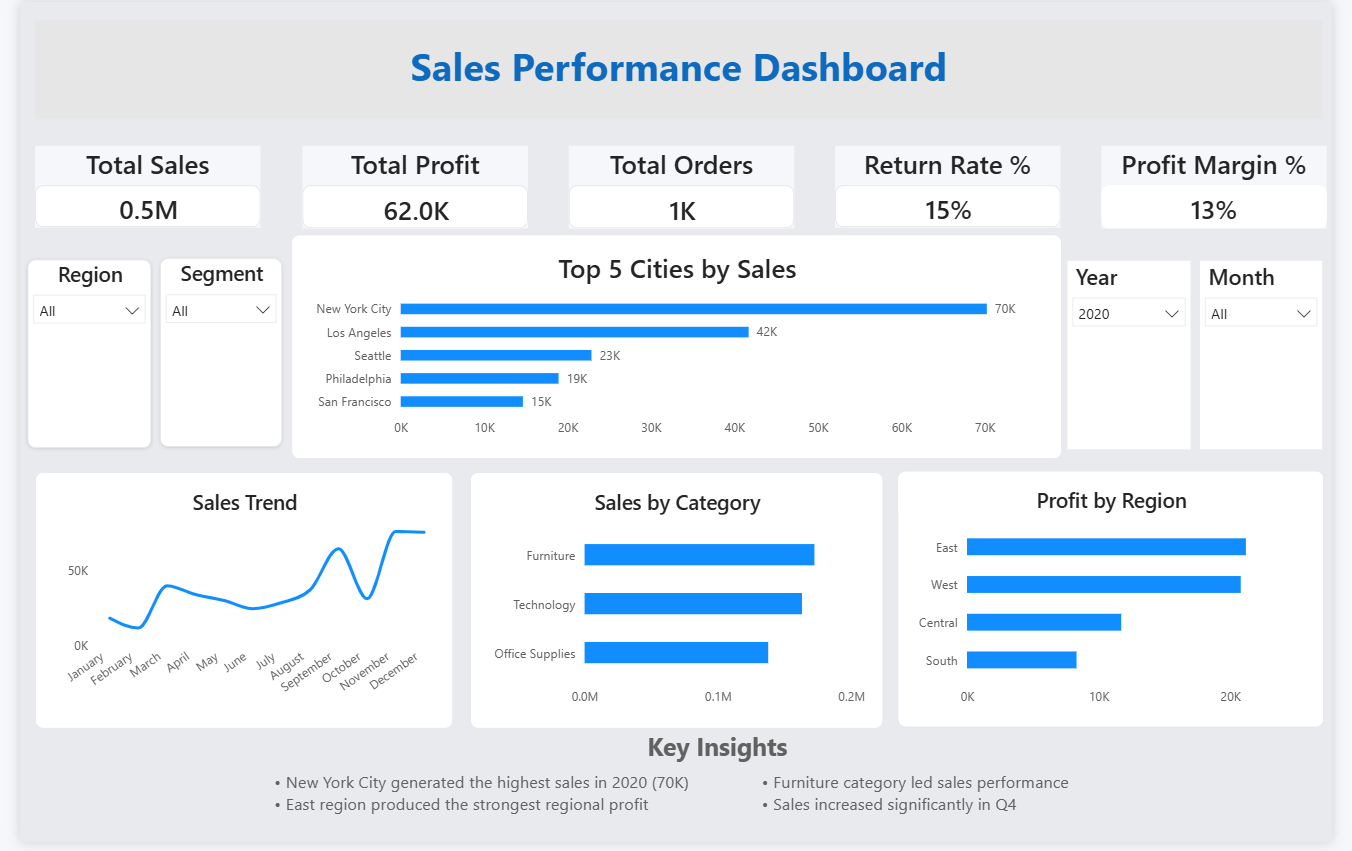

The dashboard page shown, as its layout file describes it:
{"tool":"powerbi","page":{"name":"Sales Dashboard","canvas":[1280,819],"ordinal":0},"visuals":[{"type":"cardVisual","title":"Total Sales ","fields":{"Data":["Orders.Total Sales"]},"box":[15,140,220,80],"z":0},{"type":"cardVisual","title":"Total Profit","fields":{"Data":["Orders.Total Profit"]},"box":[275.8,140.3,220,80.6],"z":1000},{"type":"cardVisual","title":"Total Orders","fields":{"Data":["Orders.Total Orders"]},"box":[535,140.3,220,80.6],"z":2000},{"type":"cardVisual","title":"Profit Margin %","fields":{"Data":["Orders.Profit Margin %"]},"box":[1055,140.3,220,80.6],"z":3000},{"type":"lineChart","title":"Sales Trend","fields":{"Category":["Orders.Order Date.Variation.Date Hierarchy.Month"],"Y":["Orders.Total Sales"]},"box":[14.5,458.1,408.1,250],"z":4000},{"type":"clusteredBarChart","title":"Sales by Category","fields":{"Category":["Orders.Category"],"Y":["Orders.Total Sales"]},"box":[438.7,458.1,403.2,250],"z":5000},{"type":"clusteredBarChart","title":"Profit by Region","fields":{"Category":["Orders.Region"],"Y":["Orders.Total Profit"]},"box":[855.6,456.8,416,250.6],"z":6000},{"type":"slicer","title":"Region","fields":{"Values":["Orders.Region"]},"box":[7,251.6,121,183.9],"z":7000},{"type":"slicer","title":"Segment","fields":{"Values":["Orders.Segment"]},"box":[137,250,119.4,183.9],"z":8000},{"type":"textbox","box":[15,18.8,1256.2,96.2],"z":9000},{"type":"cardVisual","title":"Return Rate %","fields":{"Data":["Orders.Return Rate %"]},"box":[795,140,220,80],"z":10000},{"type":"clusteredBarChart","title":"Top 5 Cities by Sales","fields":{"Category":["Orders.City"],"Y":["Sum(Orders.Sales)"]},"box":[264.5,227.4,751.6,219.4],"z":11000},{"type":"slicer","fields":{"Values":["Orders.Order Date.Variation.Date Hierarchy.Year"]},"box":[1022,252,120,183.9],"z":12000},{"type":"slicer","fields":{"Values":["Orders.Order Date.Variation.Date Hierarchy.Month"]},"box":[1151.6,252,119.4,183.9],"z":13000},{"type":"textbox","box":[235.7,748.6,454.3,70],"z":14000},{"type":"textbox","box":[711.4,748.6,454.3,70],"z":15000},{"type":"textbox","box":[548.6,710,262.9,38.6],"z":16000}]}

Visuals, with their boxes in screenshot pixels (x1, y1, x2, y2), scaled from the page's 1280x819 canvas onto the 1352x851 screenshot:
"Total Sales " cardVisual: pyautogui.locateOnScreen(16, 145, 248, 229)
"Total Profit" cardVisual: pyautogui.locateOnScreen(291, 146, 524, 230)
"Total Orders" cardVisual: pyautogui.locateOnScreen(565, 146, 797, 230)
"Profit Margin %" cardVisual: pyautogui.locateOnScreen(1114, 146, 1347, 230)
"Sales Trend" lineChart: pyautogui.locateOnScreen(15, 476, 446, 736)
"Sales by Category" clusteredBarChart: pyautogui.locateOnScreen(463, 476, 889, 736)
"Profit by Region" clusteredBarChart: pyautogui.locateOnScreen(904, 475, 1343, 735)
"Region" slicer: pyautogui.locateOnScreen(7, 261, 135, 453)
"Segment" slicer: pyautogui.locateOnScreen(145, 260, 271, 451)
textbox: pyautogui.locateOnScreen(16, 20, 1343, 119)
"Return Rate %" cardVisual: pyautogui.locateOnScreen(840, 145, 1072, 229)
"Top 5 Cities by Sales" clusteredBarChart: pyautogui.locateOnScreen(279, 236, 1073, 464)
slicer - Orders.Order Date.Variation.Date Hierarchy.Year: pyautogui.locateOnScreen(1079, 262, 1206, 453)
slicer - Orders.Order Date.Variation.Date Hierarchy.Month: pyautogui.locateOnScreen(1216, 262, 1342, 453)
textbox: pyautogui.locateOnScreen(249, 778, 729, 850)
textbox: pyautogui.locateOnScreen(751, 778, 1231, 850)
textbox: pyautogui.locateOnScreen(579, 738, 857, 778)
